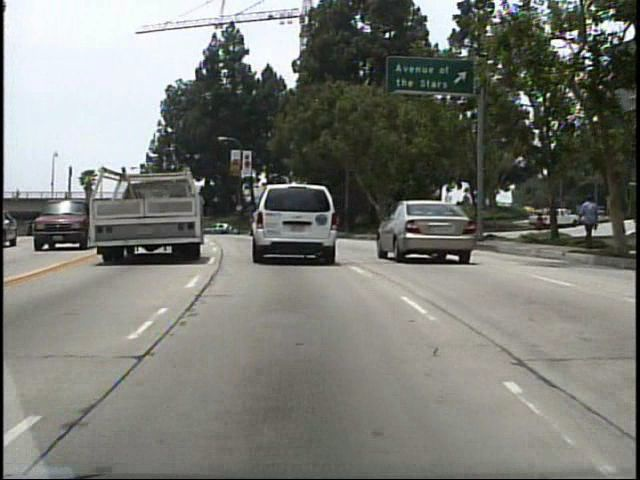person: (573, 191, 598, 256), (13, 185, 23, 204)
